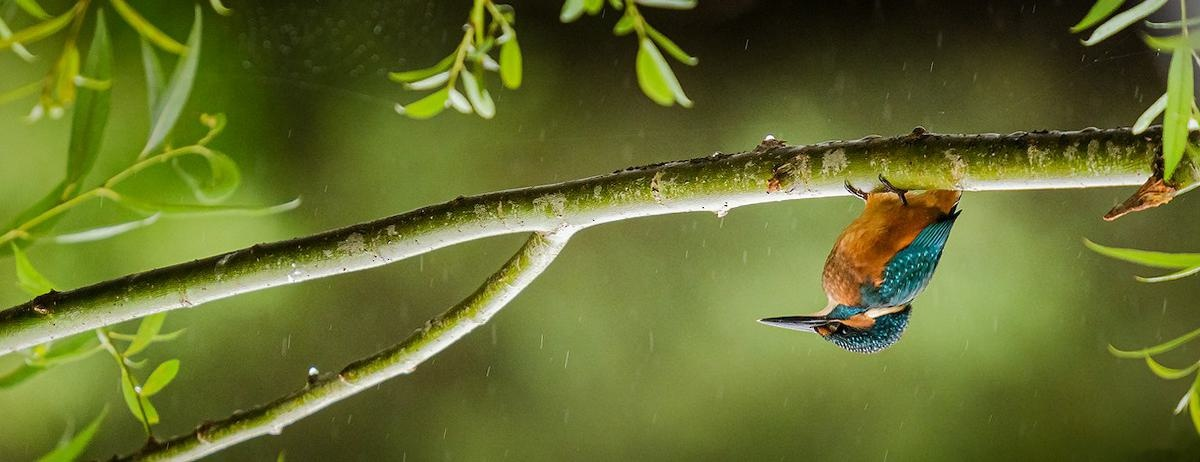kingfisher: (753, 172, 965, 357)
